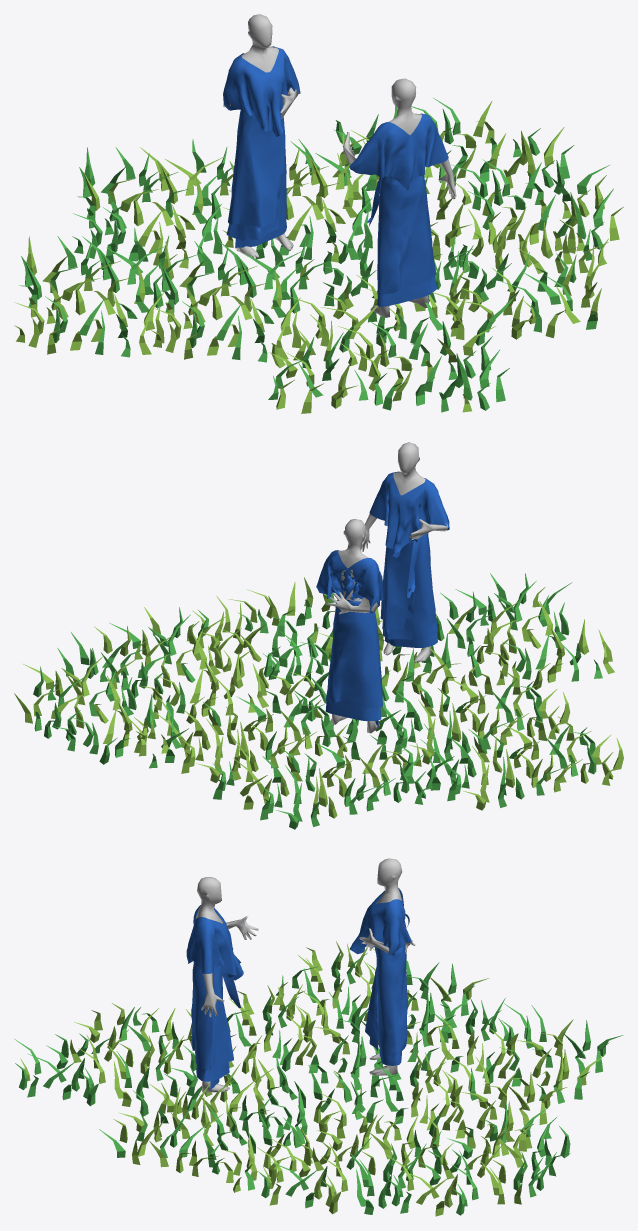
File: escena1.obj
3 views of the same model, one above another, from view 1: azimuth 30°, elevation 25°; view 2: azimuth 150°, elevation 25°; view 3: azimuth 270°, elevation 25° (orthographic). The views are drawn at different scales.
Visible parts, largest first — view 1: model, TrajeTipico.001, TrajeTipico, Maniqui.001, Maniqui; view 2: model, TrajeTipico.001, TrajeTipico, Maniqui.001, Maniqui; view 3: model, TrajeTipico.001, TrajeTipico, Maniqui.001, Maniqui.
Boxes of the visible parts, box(x1,y1,x2,y2) form: model: box(14, 98, 623, 413); TrajeTipico.001: box(349, 113, 448, 306); TrajeTipico: box(223, 46, 300, 247); Maniqui.001: box(343, 78, 456, 317); Maniqui: box(223, 14, 298, 257); model: box(14, 573, 623, 829); TrajeTipico.001: box(369, 471, 449, 647); TrajeTipico: box(316, 550, 383, 726); Maniqui.001: box(361, 442, 447, 662); Maniqui: box(327, 519, 379, 733); model: box(14, 941, 623, 1216); TrajeTipico.001: box(186, 905, 243, 1089); TrajeTipico: box(349, 888, 411, 1065); Maniqui.001: box(196, 877, 258, 1092); Maniqui: box(359, 858, 415, 1075).
Size of the model in its own units: 502 by 198 by 489.
